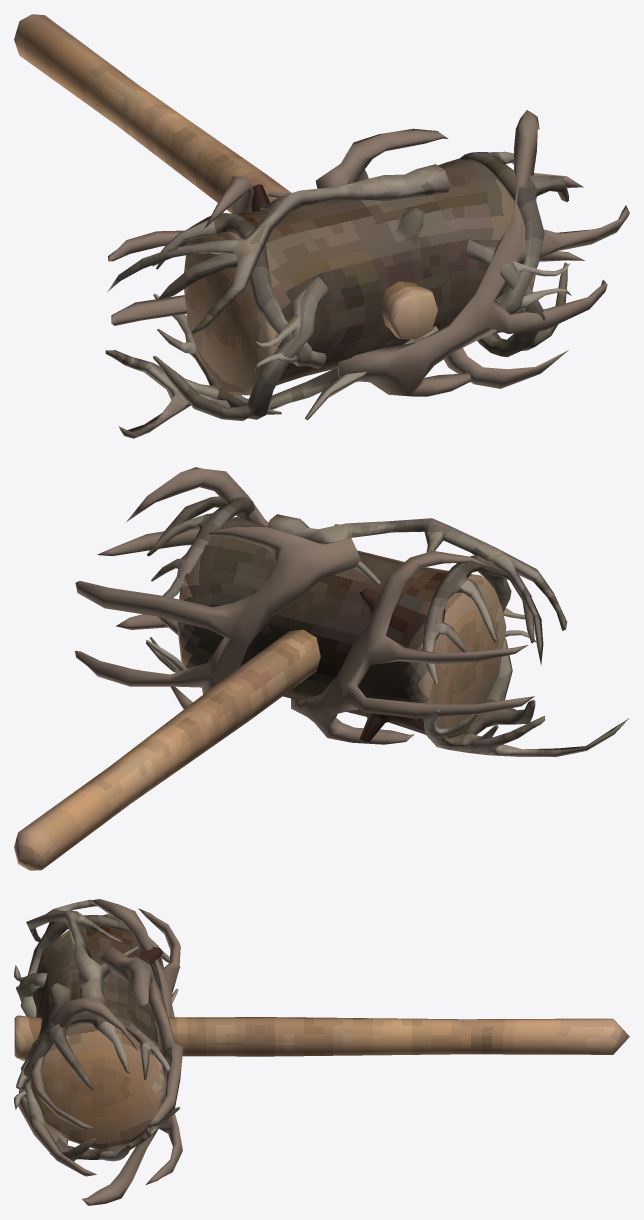
Rendered from SledgeStagbreaker.fbx.
The picture shows the model from 3 angles, top to bottom: view 1: azimuth 30°, elevation 25°; view 2: azimuth 150°, elevation 25°; view 3: azimuth 270°, elevation 25°; orthographic projection. The views are drawn at different scales.
Visible parts, largest first — view 1: sledge, antlers; view 2: antlers, sledge; view 3: sledge, antlers.
Boxes of the visible parts, x1,y1,x2,y2 form: sledge: [14, 14, 535, 395]; antlers: [105, 110, 629, 438]; antlers: [74, 467, 629, 756]; sledge: [14, 517, 506, 870]; sledge: [14, 924, 629, 1150]; antlers: [14, 899, 183, 1205].
Bounding box in the file's own units: 1.07 × 0.5165 × 1.36.
1 material, 1 textured.
